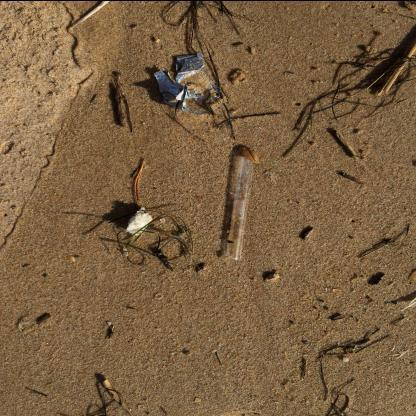kopuk: (127, 207, 153, 235)
plastik: (154, 53, 226, 115)
